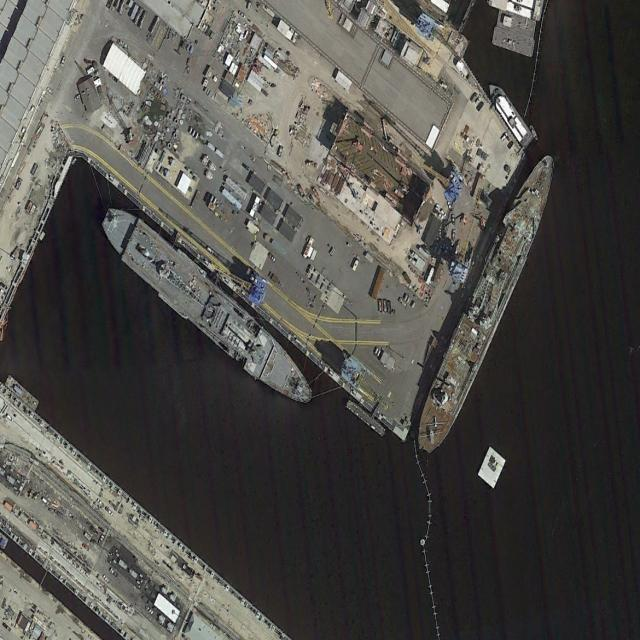Other Ship: (92, 194, 323, 419), (409, 142, 565, 463), (482, 74, 536, 152)
